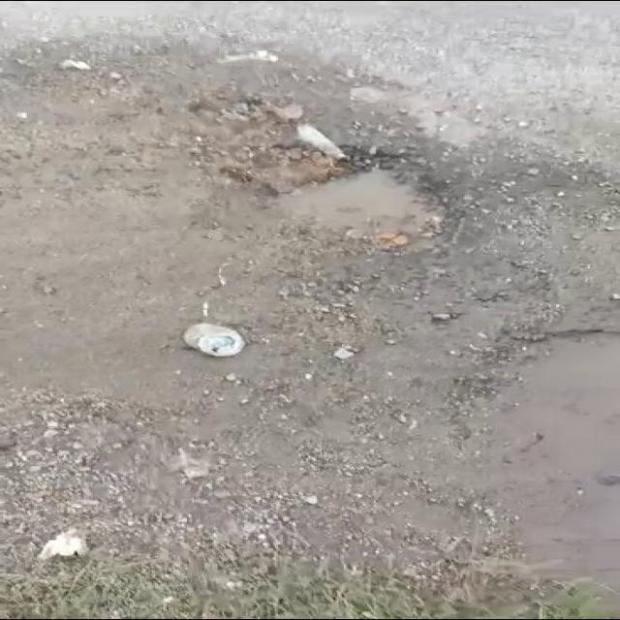lubang: (472, 303, 619, 589), (221, 99, 442, 249)
